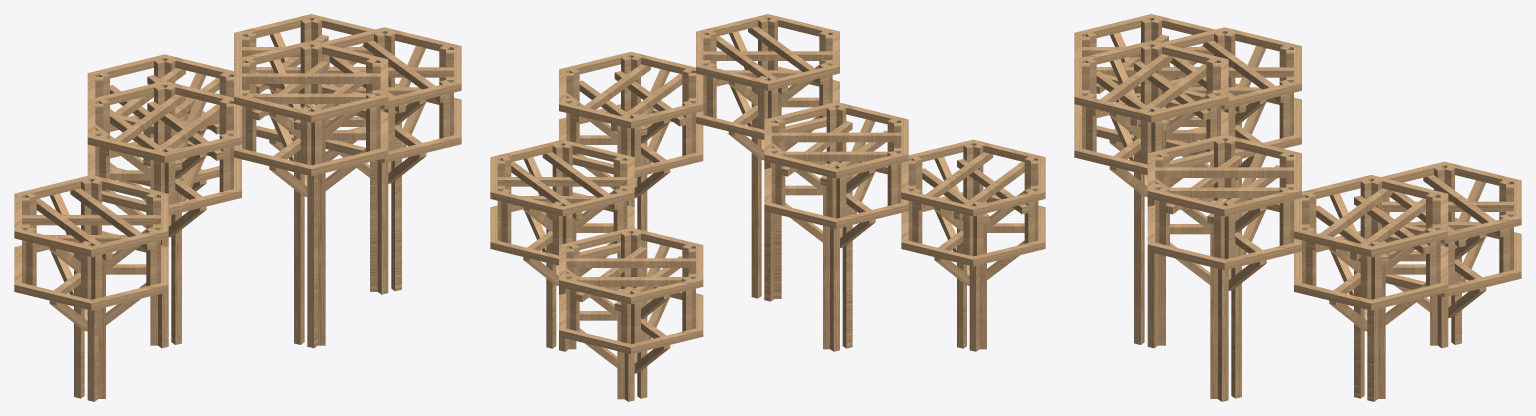
File: shroom.fbx
3 renders of one model, left to right at view 1: azimuth 30°, elevation 25°; view 2: azimuth 150°, elevation 25°; view 3: azimuth 270°, elevation 25°, orthographic. The views are drawn at different scales.
Visible parts, largest first — view 1: 物件_172, 物件_171, 物件_4, 物件_167, 物件_176, 物件_5, 物件_226, 物件_175, 物件_212, 物件_216, 物件_3, 物件_211 (+63 smaller); view 2: 物件_169, 物件_220, 物件_224, 物件_67, 物件_223, 物件_170, 物件_221, 物件_222, 物件_66, 物件_210, 物件_97, 物件_173 (+53 smaller); view 3: 物件_167, 物件_58, 物件_8, 物件_7, 物件_168, 物件_5, 物件_59, 物件_106, 物件_95, 物件_175, 物件_111, 物件_221 (+68 smaller).
Boxes of the visible parts, box(x1,y1,x2,y2) form: 物件_172: box(307, 175, 317, 348); 物件_171: box(294, 118, 304, 344); 物件_4: box(377, 161, 388, 294); 物件_167: box(318, 119, 325, 345); 物件_176: box(242, 73, 380, 83); 物件_5: box(391, 110, 401, 291); 物件_226: box(171, 159, 181, 344); 物件_175: box(252, 93, 369, 103); 物件_212: box(87, 309, 98, 401); 物件_216: box(22, 215, 160, 225); 物件_3: box(370, 161, 377, 291); 物件_211: box(74, 253, 84, 398); 物件_169: box(751, 87, 761, 298); 物件_220: box(771, 132, 901, 142); 物件_224: box(842, 175, 852, 348); 物件_67: box(566, 258, 695, 267); 物件_223: box(830, 227, 839, 351); 物件_170: box(764, 161, 774, 301); 物件_221: box(782, 151, 890, 161); 物件_222: box(823, 185, 829, 349); 物件_66: box(575, 277, 686, 286); 物件_210: box(969, 265, 979, 351); 物件_97: box(497, 177, 627, 186); 物件_173: box(703, 51, 832, 60); 物件_167: box(1134, 123, 1144, 344); 物件_58: box(1155, 167, 1293, 177); 物件_8: box(1218, 269, 1228, 401); 物件_7: box(1231, 212, 1241, 398); 物件_168: box(1147, 198, 1158, 348); 物件_5: box(1210, 223, 1217, 398); 物件_59: box(1166, 187, 1283, 197); 物件_106: box(1367, 309, 1377, 401); 物件_95: box(1308, 188, 1392, 250); 物件_175: box(1089, 54, 1172, 116); 物件_111: box(1354, 258, 1364, 398); 物件_221: box(1203, 41, 1287, 102).
Bounding box in the file's own units: 251 × 201 × 130.
2 materials, 2 textured.
